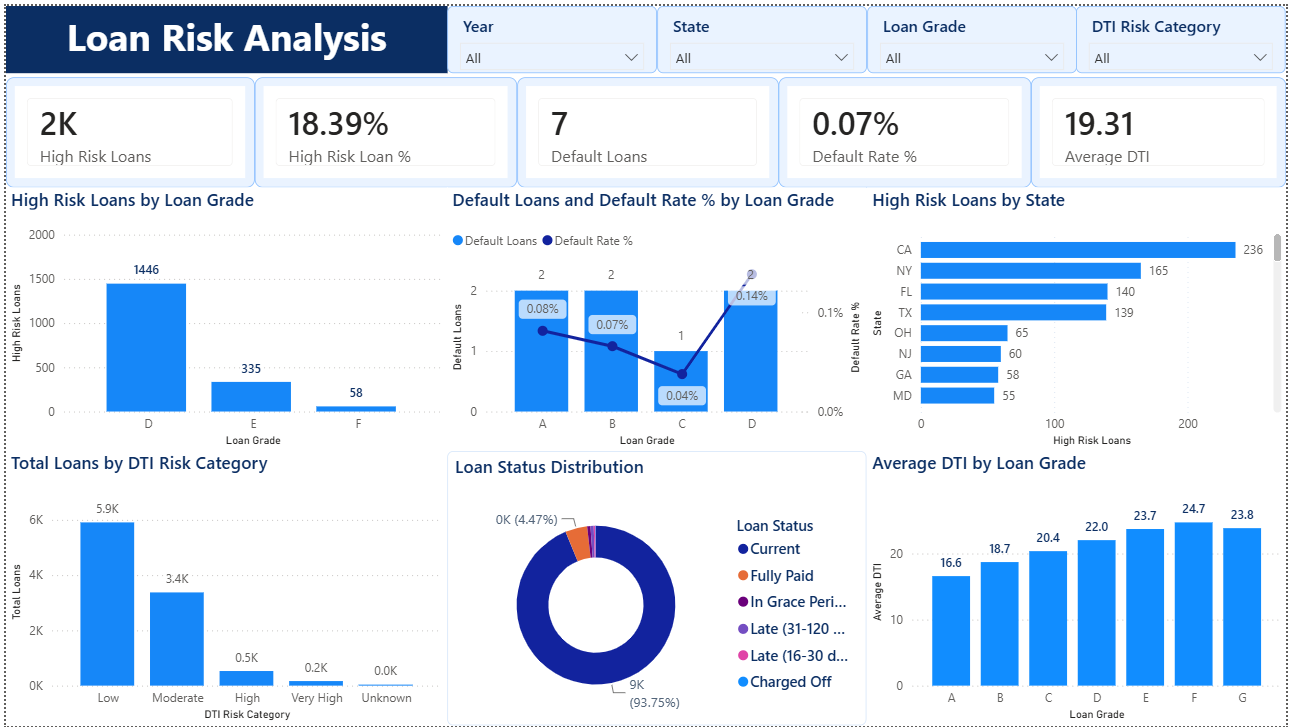

Layout of this report page (visuals, bound fields, positions):
{"tool":"powerbi","page":{"name":"Risk Analysis","canvas":[1280,720],"ordinal":1},"visuals":[{"type":"textbox","box":[0,0,441.4,67.3],"z":0},{"type":"slicer","fields":{"Values":["DimDate.Year"]},"box":[441.4,0,209.7,67.3],"z":1000},{"type":"slicer","fields":{"Values":["DimGeography.State"]},"box":[651.1,0,209.7,67.3],"z":2000},{"type":"slicer","fields":{"Values":["DimLoan.Loan Grade"]},"box":[860.8,0,209.7,67.3],"z":3000},{"type":"slicer","fields":{"Values":["FactLoans.DTI Risk Category"]},"box":[1070.6,0,209.7,67.3],"z":4000},{"type":"cardVisual","fields":{"Data":["_Measures.High Risk Loans"]},"box":[0,71.2,248.5,110],"z":5000},{"type":"cardVisual","fields":{"Data":["_Measures.High Risk Loan %"]},"box":[248.5,71.2,262.8,110],"z":6000},{"type":"cardVisual","fields":{"Data":["_Measures.Default Loans"]},"box":[511.3,71.2,261.5,110],"z":7000},{"type":"cardVisual","fields":{"Data":["_Measures.Default Rate %"]},"box":[772.8,71.2,252.4,110],"z":8000},{"type":"cardVisual","fields":{"Data":["_Measures.Average DTI"]},"box":[1025.2,71.2,255,110],"z":9000},{"type":"clusteredColumnChart","fields":{"Category":["DimLoan.Loan Grade"],"Y":["_Measures.High Risk Loans"]},"box":[0,181.2,441.4,264.1],"z":10000},{"type":"lineClusteredColumnComboChart","fields":{"Category":["DimLoan.Loan Grade"],"Y":["_Measures.Default Loans"],"Y2":["_Measures.Default Rate %"]},"box":[441.4,181.2,419.4,264.1],"z":11000},{"type":"barChart","fields":{"Category":["DimGeography.State"],"Y":["_Measures.High Risk Loans"]},"box":[860.8,181.2,419.4,264.1],"z":12000},{"type":"clusteredColumnChart","fields":{"Category":["FactLoans.DTI Risk Category"],"Y":["_Measures.Total Loans"]},"box":[0,445.3,441.4,274.4],"z":13000},{"type":"donutChart","title":"Loan Status Distribution","fields":{"Category":["FactLoans.Loan Status"],"Y":["_Measures.Total Loans"]},"box":[441.4,445.3,419.4,274.4],"z":14000},{"type":"columnChart","fields":{"Category":["DimLoan.Loan Grade"],"Y":["_Measures.Average DTI"]},"box":[860.8,445.3,419.4,274.4],"z":15000}]}

Visuals, with their boxes in screenshot pixels (x1, y1, x2, y2), scaled from the page's 1280x720 canvas onto the 1290x727 screenshot:
textbox: pyautogui.locateOnScreen(0, 0, 445, 68)
slicer - DimDate.Year: pyautogui.locateOnScreen(445, 0, 656, 68)
slicer - DimGeography.State: pyautogui.locateOnScreen(656, 0, 868, 68)
slicer - DimLoan.Loan Grade: pyautogui.locateOnScreen(868, 0, 1079, 68)
slicer - FactLoans.DTI Risk Category: pyautogui.locateOnScreen(1079, 0, 1289, 68)
cardVisual - _Measures.High Risk Loans: pyautogui.locateOnScreen(0, 72, 250, 183)
cardVisual - _Measures.High Risk Loan %: pyautogui.locateOnScreen(250, 72, 515, 183)
cardVisual - _Measures.Default Loans: pyautogui.locateOnScreen(515, 72, 779, 183)
cardVisual - _Measures.Default Rate %: pyautogui.locateOnScreen(779, 72, 1033, 183)
cardVisual - _Measures.Average DTI: pyautogui.locateOnScreen(1033, 72, 1289, 183)
clusteredColumnChart - DimLoan.Loan Grade x _Measures.High Risk Loans: pyautogui.locateOnScreen(0, 183, 445, 450)
lineClusteredColumnComboChart - DimLoan.Loan Grade x _Measures.Default Loans: pyautogui.locateOnScreen(445, 183, 868, 450)
barChart - DimGeography.State x _Measures.High Risk Loans: pyautogui.locateOnScreen(868, 183, 1289, 450)
clusteredColumnChart - FactLoans.DTI Risk Category x _Measures.Total Loans: pyautogui.locateOnScreen(0, 450, 445, 726)
"Loan Status Distribution" donutChart: pyautogui.locateOnScreen(445, 450, 868, 726)
columnChart - DimLoan.Loan Grade x _Measures.Average DTI: pyautogui.locateOnScreen(868, 450, 1289, 726)
